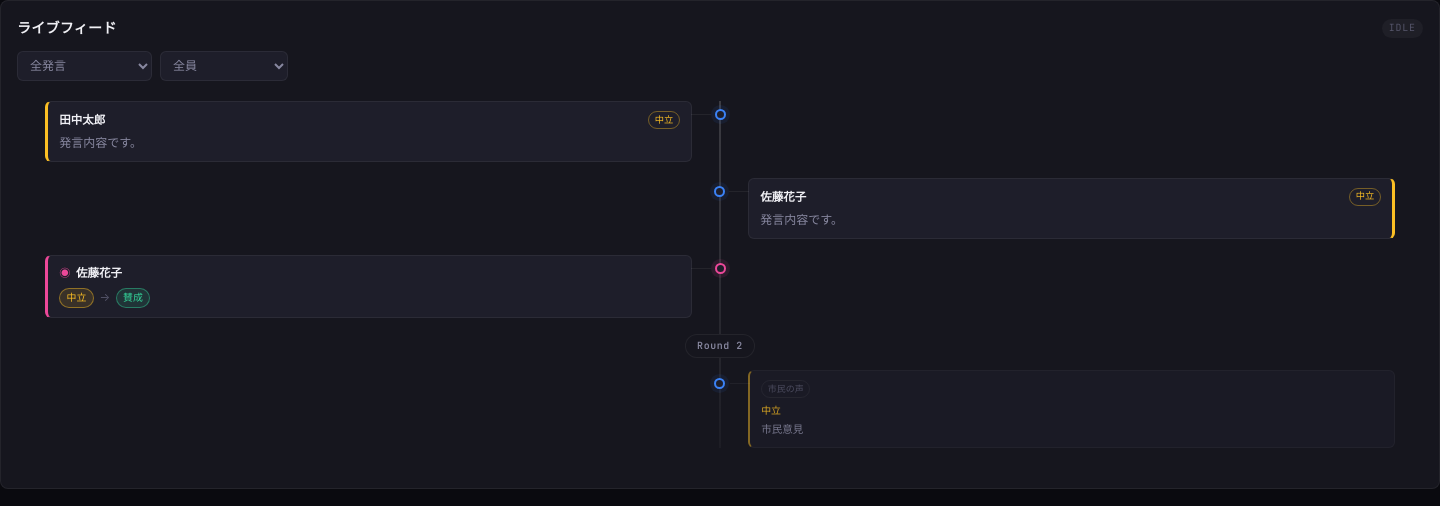
Test: SocietyLiveFeed › filters entries by related council agent while retaining round markers
The image size is (1440, 506).
Select "田中太郎" in the dropdown with class "feed-filter-agent" at (224, 66), box [160, 51, 288, 81]
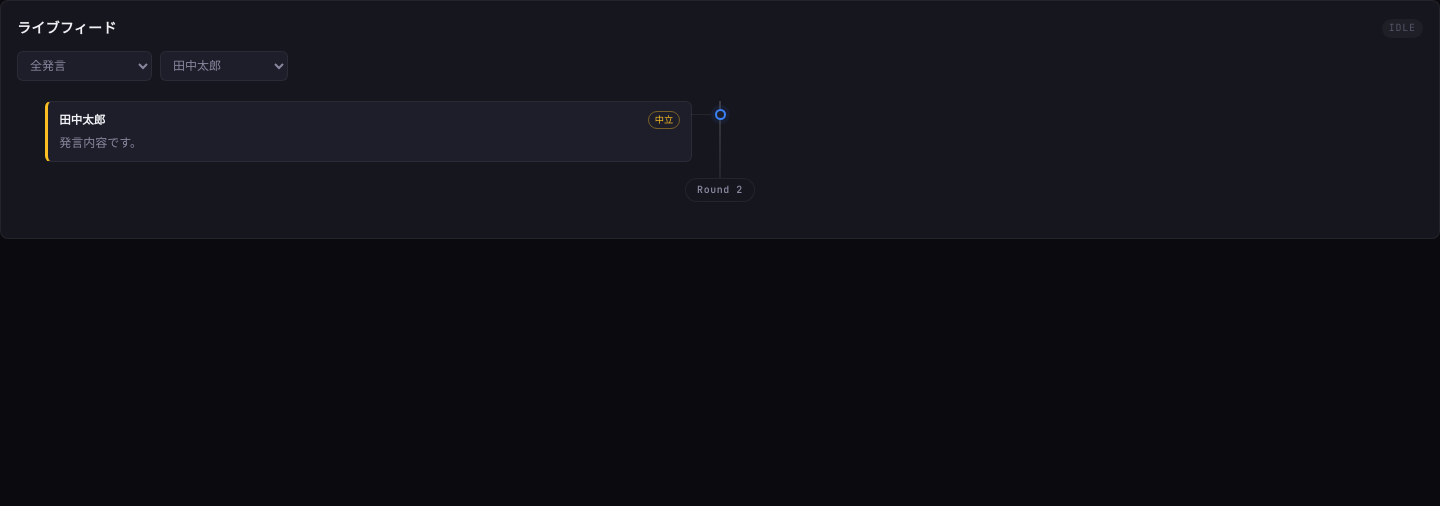
Expected: the number of elements with class "feed-dialogue" is 1, [45, 101, 692, 162]
Expected: the button with class "feed-dialogue" no longer shows "佐藤花子"
